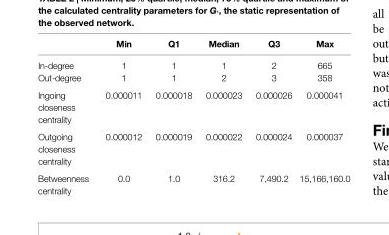table: (37, 37, 349, 195)
table column: (37, 37, 96, 195), (294, 37, 349, 195), (96, 37, 148, 195), (148, 37, 198, 195), (198, 37, 248, 195), (248, 37, 294, 195)
table column header: (37, 37, 349, 53)
table row: (37, 85, 349, 127), (37, 127, 349, 168), (37, 168, 349, 195), (37, 53, 349, 70), (37, 37, 349, 53), (37, 70, 349, 85)
